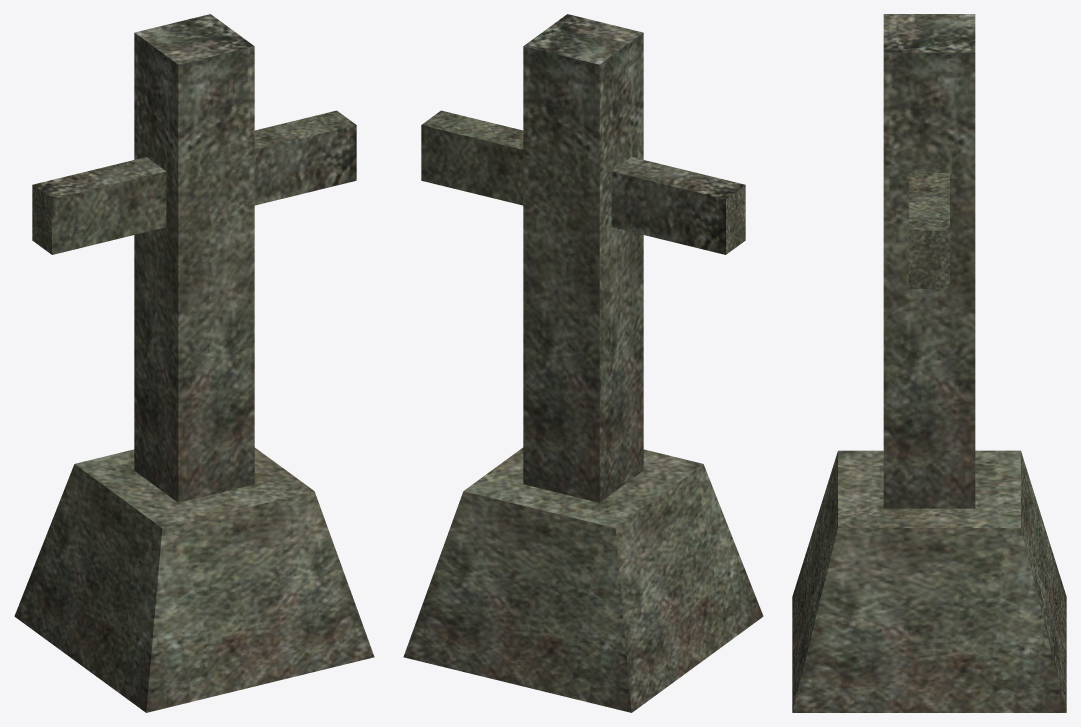
The model's file is tombstone_sm_07.fbx.
3 views of the same model, side by side, from view 1: azimuth 30°, elevation 25°; view 2: azimuth 150°, elevation 25°; view 3: azimuth 270°, elevation 25° (orthographic). The views are drawn at different scales.
Parts seen in each view (by area): view 1: mesh_1, mesh_0, mesh_2; view 2: mesh_1, mesh_0, mesh_2; view 3: mesh_1, mesh_0, mesh_2.
Boxes of the visible parts, x1=… form: mesh_1: x1=14, y1=447, x2=374, y2=712; mesh_0: x1=134, y1=14, x2=254, y2=502; mesh_2: x1=32, y1=110, x2=356, y2=254; mesh_1: x1=403, y1=447, x2=763, y2=712; mesh_0: x1=523, y1=14, x2=643, y2=502; mesh_2: x1=421, y1=110, x2=745, y2=254; mesh_1: x1=792, y1=450, x2=1066, y2=712; mesh_0: x1=883, y1=14, x2=975, y2=508; mesh_2: x1=909, y1=173, x2=949, y2=288.
Bounding box in the file's own units: 80 × 150 × 60.
Materials: 1 (1 with a texture image).
